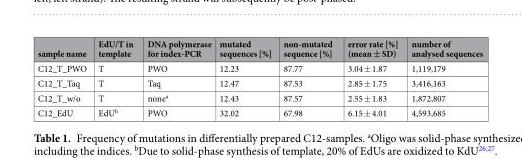table: (36, 37, 482, 118)
table column: (404, 37, 482, 118), (139, 37, 214, 118), (339, 37, 404, 118), (276, 37, 339, 118), (214, 37, 276, 118), (36, 37, 91, 118), (91, 37, 139, 118)
table column header: (36, 37, 482, 60)
table row: (36, 37, 482, 60), (36, 60, 482, 75), (36, 75, 482, 90), (36, 90, 482, 105), (36, 105, 482, 118)
